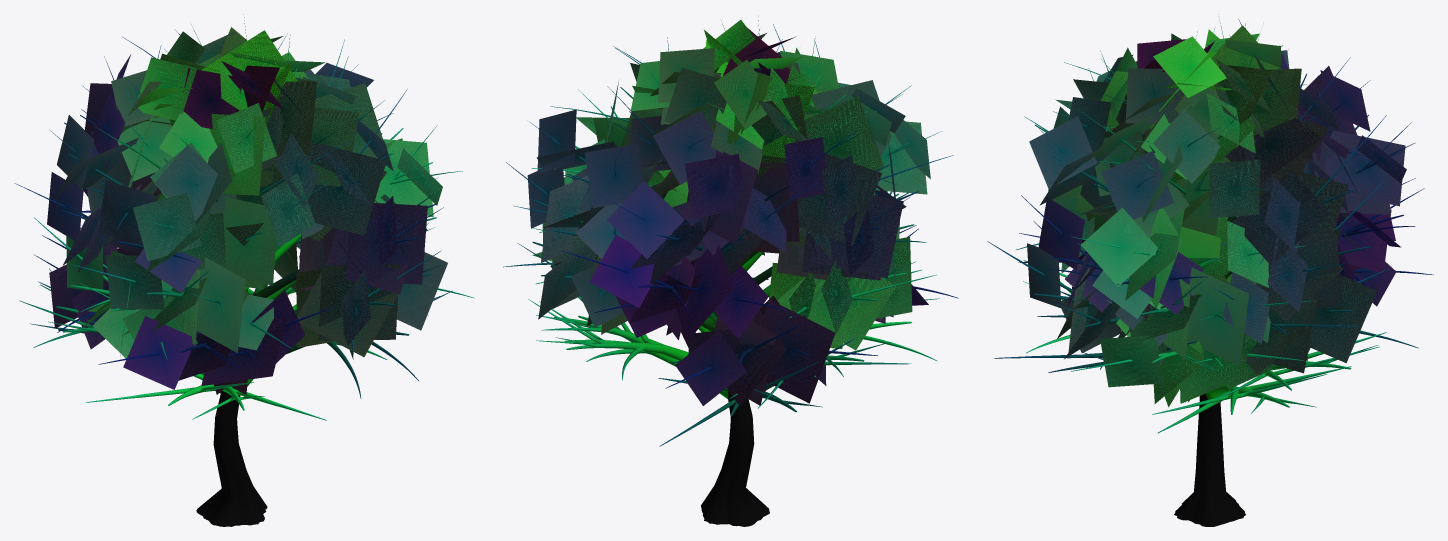
File: Tree4_Mesh.fbx
3 views of the same model, side by side, from view 1: azimuth 30°, elevation 25°; view 2: azimuth 150°, elevation 25°; view 3: azimuth 270°, elevation 25° (orthographic).
Parts seen in each view (by area): view 1: Tree_2, Tree_0, Tree_1; view 2: Tree_2, Tree_0, Tree_1; view 3: Tree_2, Tree_0, Tree_1.
Part boxes in pixels (bbox=[...]): Tree_2: bbox=[47, 27, 447, 394]; Tree_0: bbox=[56, 52, 436, 526]; Tree_1: bbox=[14, 14, 474, 420]; Tree_2: bbox=[527, 20, 930, 406]; Tree_0: bbox=[530, 55, 918, 526]; Tree_1: bbox=[503, 20, 958, 446]; Tree_2: bbox=[1018, 25, 1406, 407]; Tree_0: bbox=[1034, 56, 1403, 526]; Tree_1: bbox=[987, 14, 1433, 433].
Bounding box in the file's own units: 281 × 334 × 280.
